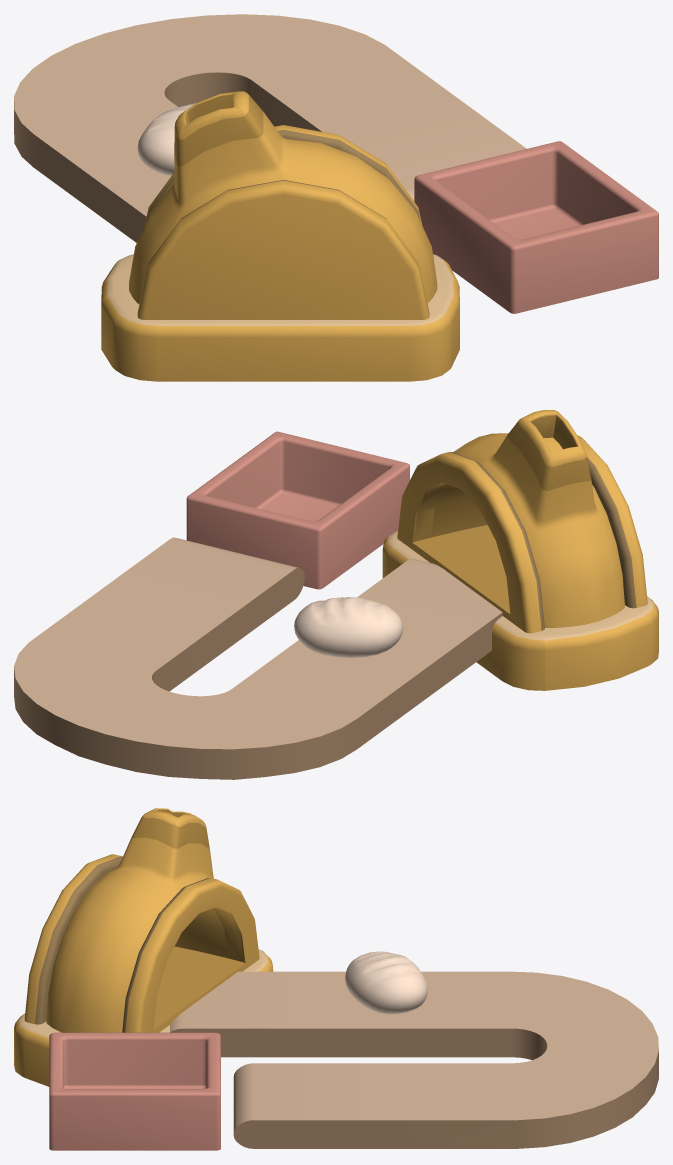
File: oven.fbx
3 renders of one model, top to bottom at view 1: azimuth 30°, elevation 25°; view 2: azimuth 150°, elevation 25°; view 3: azimuth 270°, elevation 25°, orthographic. The views are drawn at different scales.
Visible parts, largest first — view 1: Outer, Cube, Box, bread; view 2: Cube, Outer, Box, bread; view 3: Cube, Outer, Box, bread.
Part boxes in pixels (x1,y1,x2,y2): Outer: (101, 91, 459, 381); Cube: (14, 14, 526, 242); Box: (414, 141, 658, 313); bread: (137, 103, 195, 175); Cube: (14, 537, 502, 779); Outer: (382, 410, 658, 690); Box: (186, 431, 409, 589); bread: (294, 597, 403, 657); Cube: (169, 971, 658, 1148); Outer: (14, 808, 273, 1086); Box: (49, 1032, 220, 1150); bread: (345, 951, 427, 1014).
Bounding box in the file's own units: 213 × 104 × 290.
